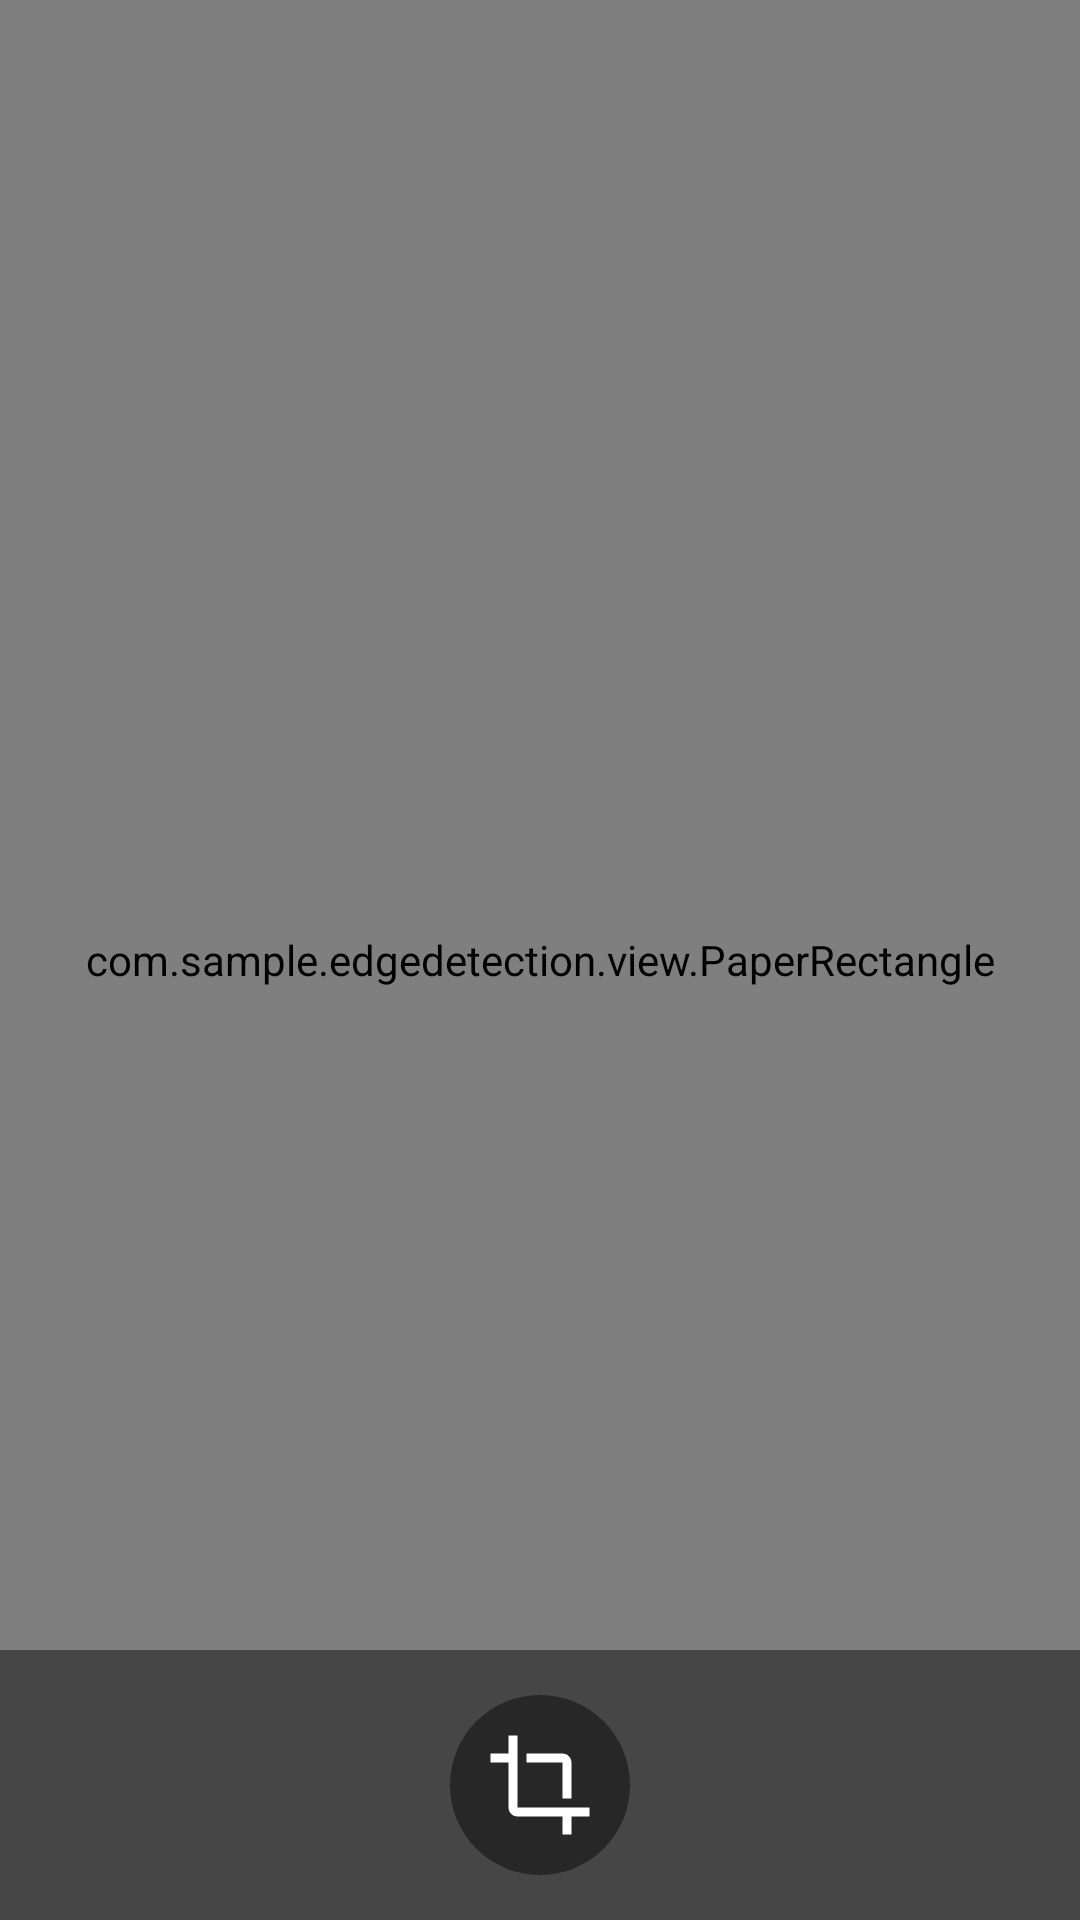

Point at icon controls on the screen. Image size 1080px x 1920px, points as (x=x, y=y).
crop: (x=540, y=1785)
